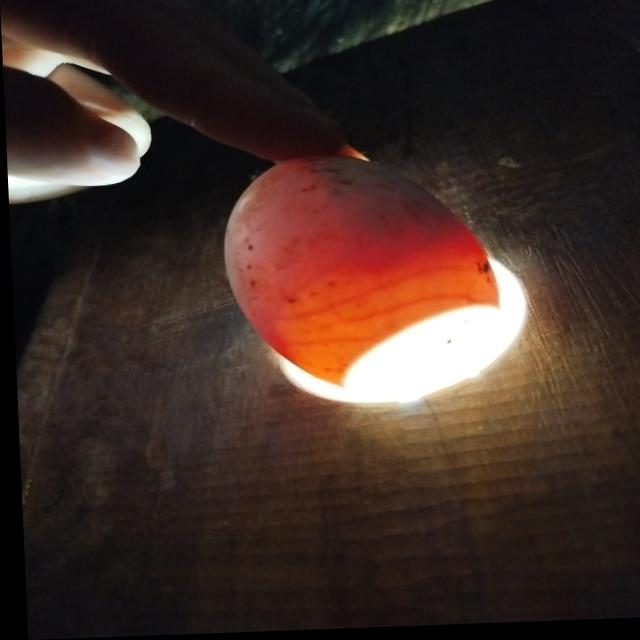Embriao: (301, 156, 466, 244)
